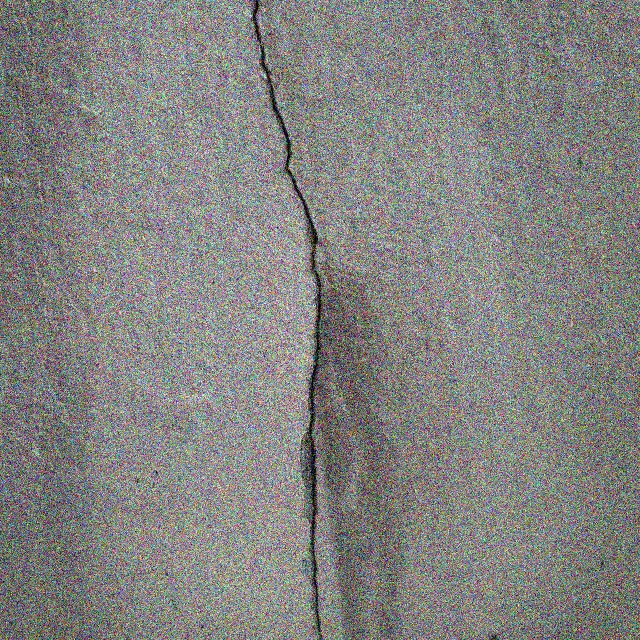SurfaceCrack: (228, 0, 370, 640)
